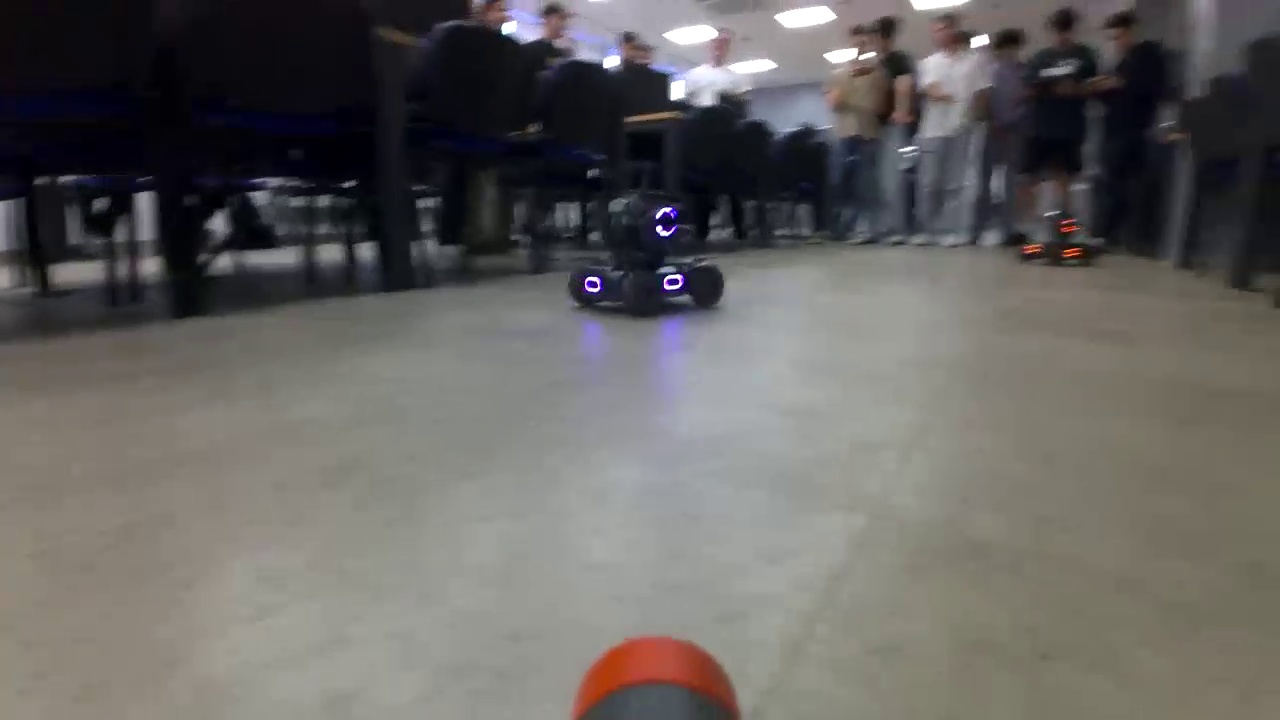robot: (567, 188, 725, 319), (1012, 210, 1092, 268)
